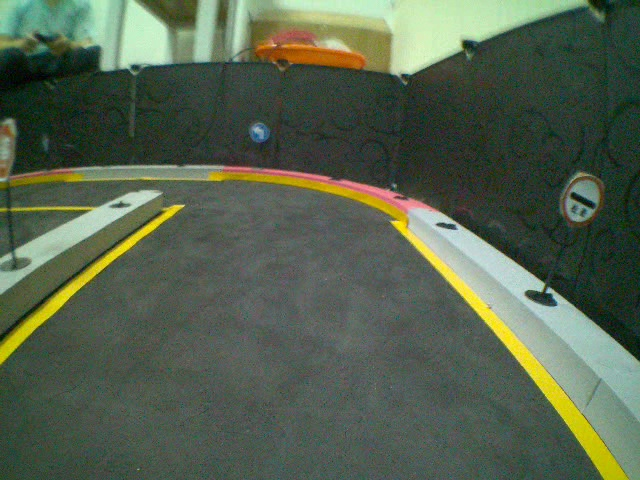Check: (561, 172, 604, 225)
turn: (248, 122, 269, 144)
